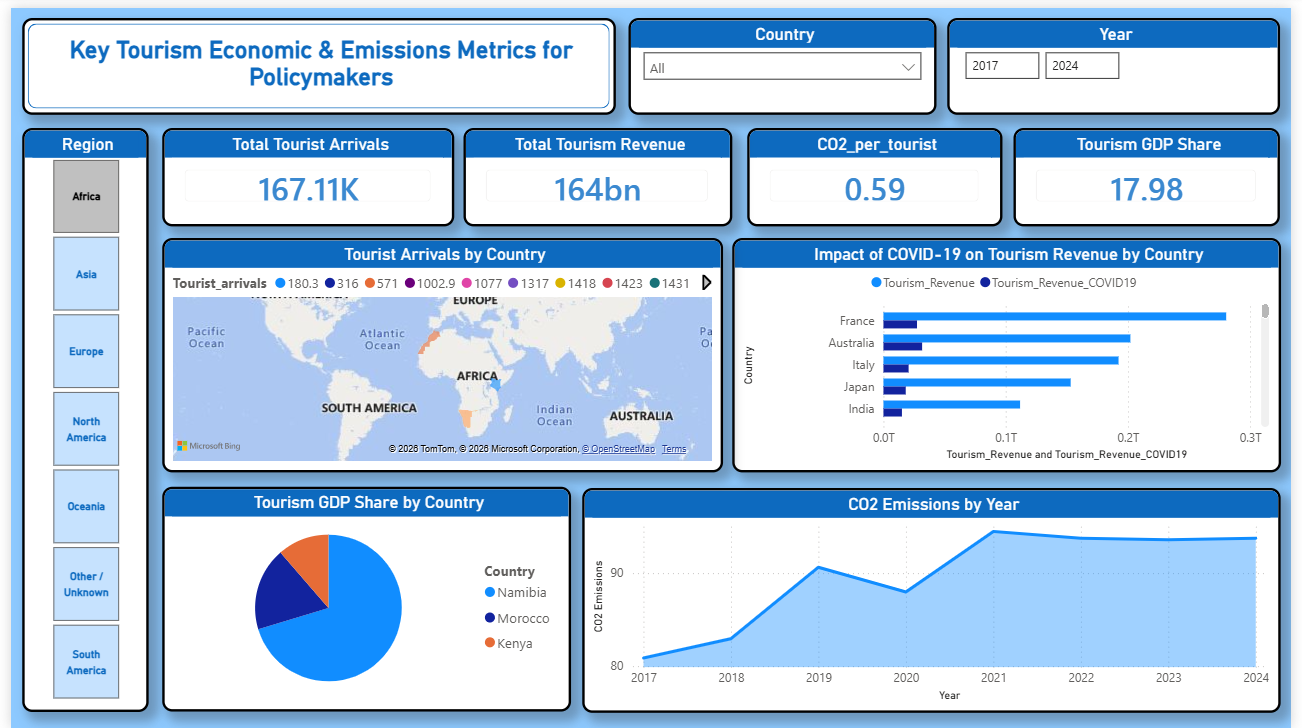

Layout of this report page (visuals, bound fields, positions):
{"tool":"powerbi","page":{"name":"Page 1","canvas":[1280,720],"ordinal":0},"visuals":[{"type":"shape","box":[11,9.8,593.9,96.9],"z":0},{"type":"slicer","title":"Country","fields":{"Values":["Sheet1.Country"]},"box":[617.2,9.8,308,96.9],"z":1000},{"type":"slicer","title":"Year","fields":{"Values":["Sheet1.Year"]},"box":[936.2,9.8,332.5,96.9],"z":2000},{"type":"slicer","title":"Region","fields":{"Values":["Sheet1.Region"]},"box":[11,120.2,126.4,584.1],"z":3000},{"type":"cardVisual","title":"Total Tourist Arrivals","fields":{"Data":["Sum(Sheet1.Tourist_arrivals)"]},"box":[150.9,120.2,292,98.2],"z":4000},{"type":"cardVisual","title":"CO2_per_tourist","fields":{"Data":["Sum(Sheet1.CO2_per_Tourist)"]},"box":[736.2,120.2,255.2,98.2],"z":5000},{"type":"cardVisual","title":"Total Tourism Revenue","fields":{"Data":["Sum(Sheet1.Tourism_Revenue_USD)"]},"box":[452.8,120.2,268.7,98.2],"z":6000},{"type":"cardVisual","title":"Tourism GDP Share","fields":{"Data":["Avg(Sheet1.Tourism_GDP_Share)"]},"box":[1002.5,120.2,266.3,98.2],"z":7000},{"type":"pieChart","fields":{"Y":["Avg(Sheet1.Tourism_GDP_Share)"],"Category":["Sheet1.Country"]},"box":[150.9,478.5,408.6,224.5],"z":8000},{"type":"stackedAreaChart","fields":{"Category":["Sheet1.Year"],"Y":["Sum(Sheet1.CO2_Emissions)"]},"box":[571.8,479.8,698.2,224.5],"z":9000},{"type":"textbox","box":[25.8,22.1,568.1,68.7],"z":10000},{"type":"clusteredBarChart","title":"Impact of COVID-19 on Tourism Revenue by Country","fields":{"Category":["Sheet3.Country"],"Y":["Sum(Sheet3.Tourism_Revenue_USD)","Avg(Sheet3.Tourism_Revenue_COVID19)"]},"box":[721.5,229.4,548.5,234.4],"z":11000},{"type":"filledMap","title":"Tourist Arrivals by Country","fields":{"Series":["Sheet1.Tourist_arrivals"],"Category":["Sheet1.Country"]},"box":[150.9,229.4,560.7,234.4],"z":12000}]}

Visuals, with their boxes in screenshot pixels (x1, y1, x2, y2), scaled from the page's 1280x720 canvas onto the 1302x728 screenshot:
shape: pyautogui.locateOnScreen(11, 10, 615, 108)
"Country" slicer: pyautogui.locateOnScreen(628, 10, 941, 108)
"Year" slicer: pyautogui.locateOnScreen(952, 10, 1291, 108)
"Region" slicer: pyautogui.locateOnScreen(11, 122, 140, 712)
"Total Tourist Arrivals" cardVisual: pyautogui.locateOnScreen(153, 122, 451, 221)
"CO2_per_tourist" cardVisual: pyautogui.locateOnScreen(749, 122, 1008, 221)
"Total Tourism Revenue" cardVisual: pyautogui.locateOnScreen(461, 122, 734, 221)
"Tourism GDP Share" cardVisual: pyautogui.locateOnScreen(1020, 122, 1291, 221)
pieChart - Avg(Sheet1.Tourism_GDP_Share) x Sheet1.Country: pyautogui.locateOnScreen(153, 484, 569, 711)
stackedAreaChart - Sheet1.Year x Sum(Sheet1.CO2_Emissions): pyautogui.locateOnScreen(582, 485, 1292, 712)
textbox: pyautogui.locateOnScreen(26, 22, 604, 92)
"Impact of COVID-19 on Tourism Revenue by Country" clusteredBarChart: pyautogui.locateOnScreen(734, 232, 1292, 469)
"Tourist Arrivals by Country" filledMap: pyautogui.locateOnScreen(153, 232, 724, 469)
